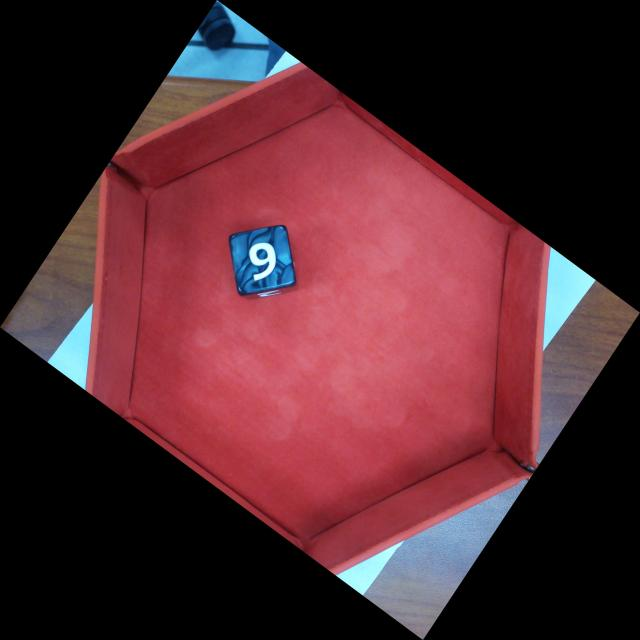dice: (228, 225, 297, 297)
